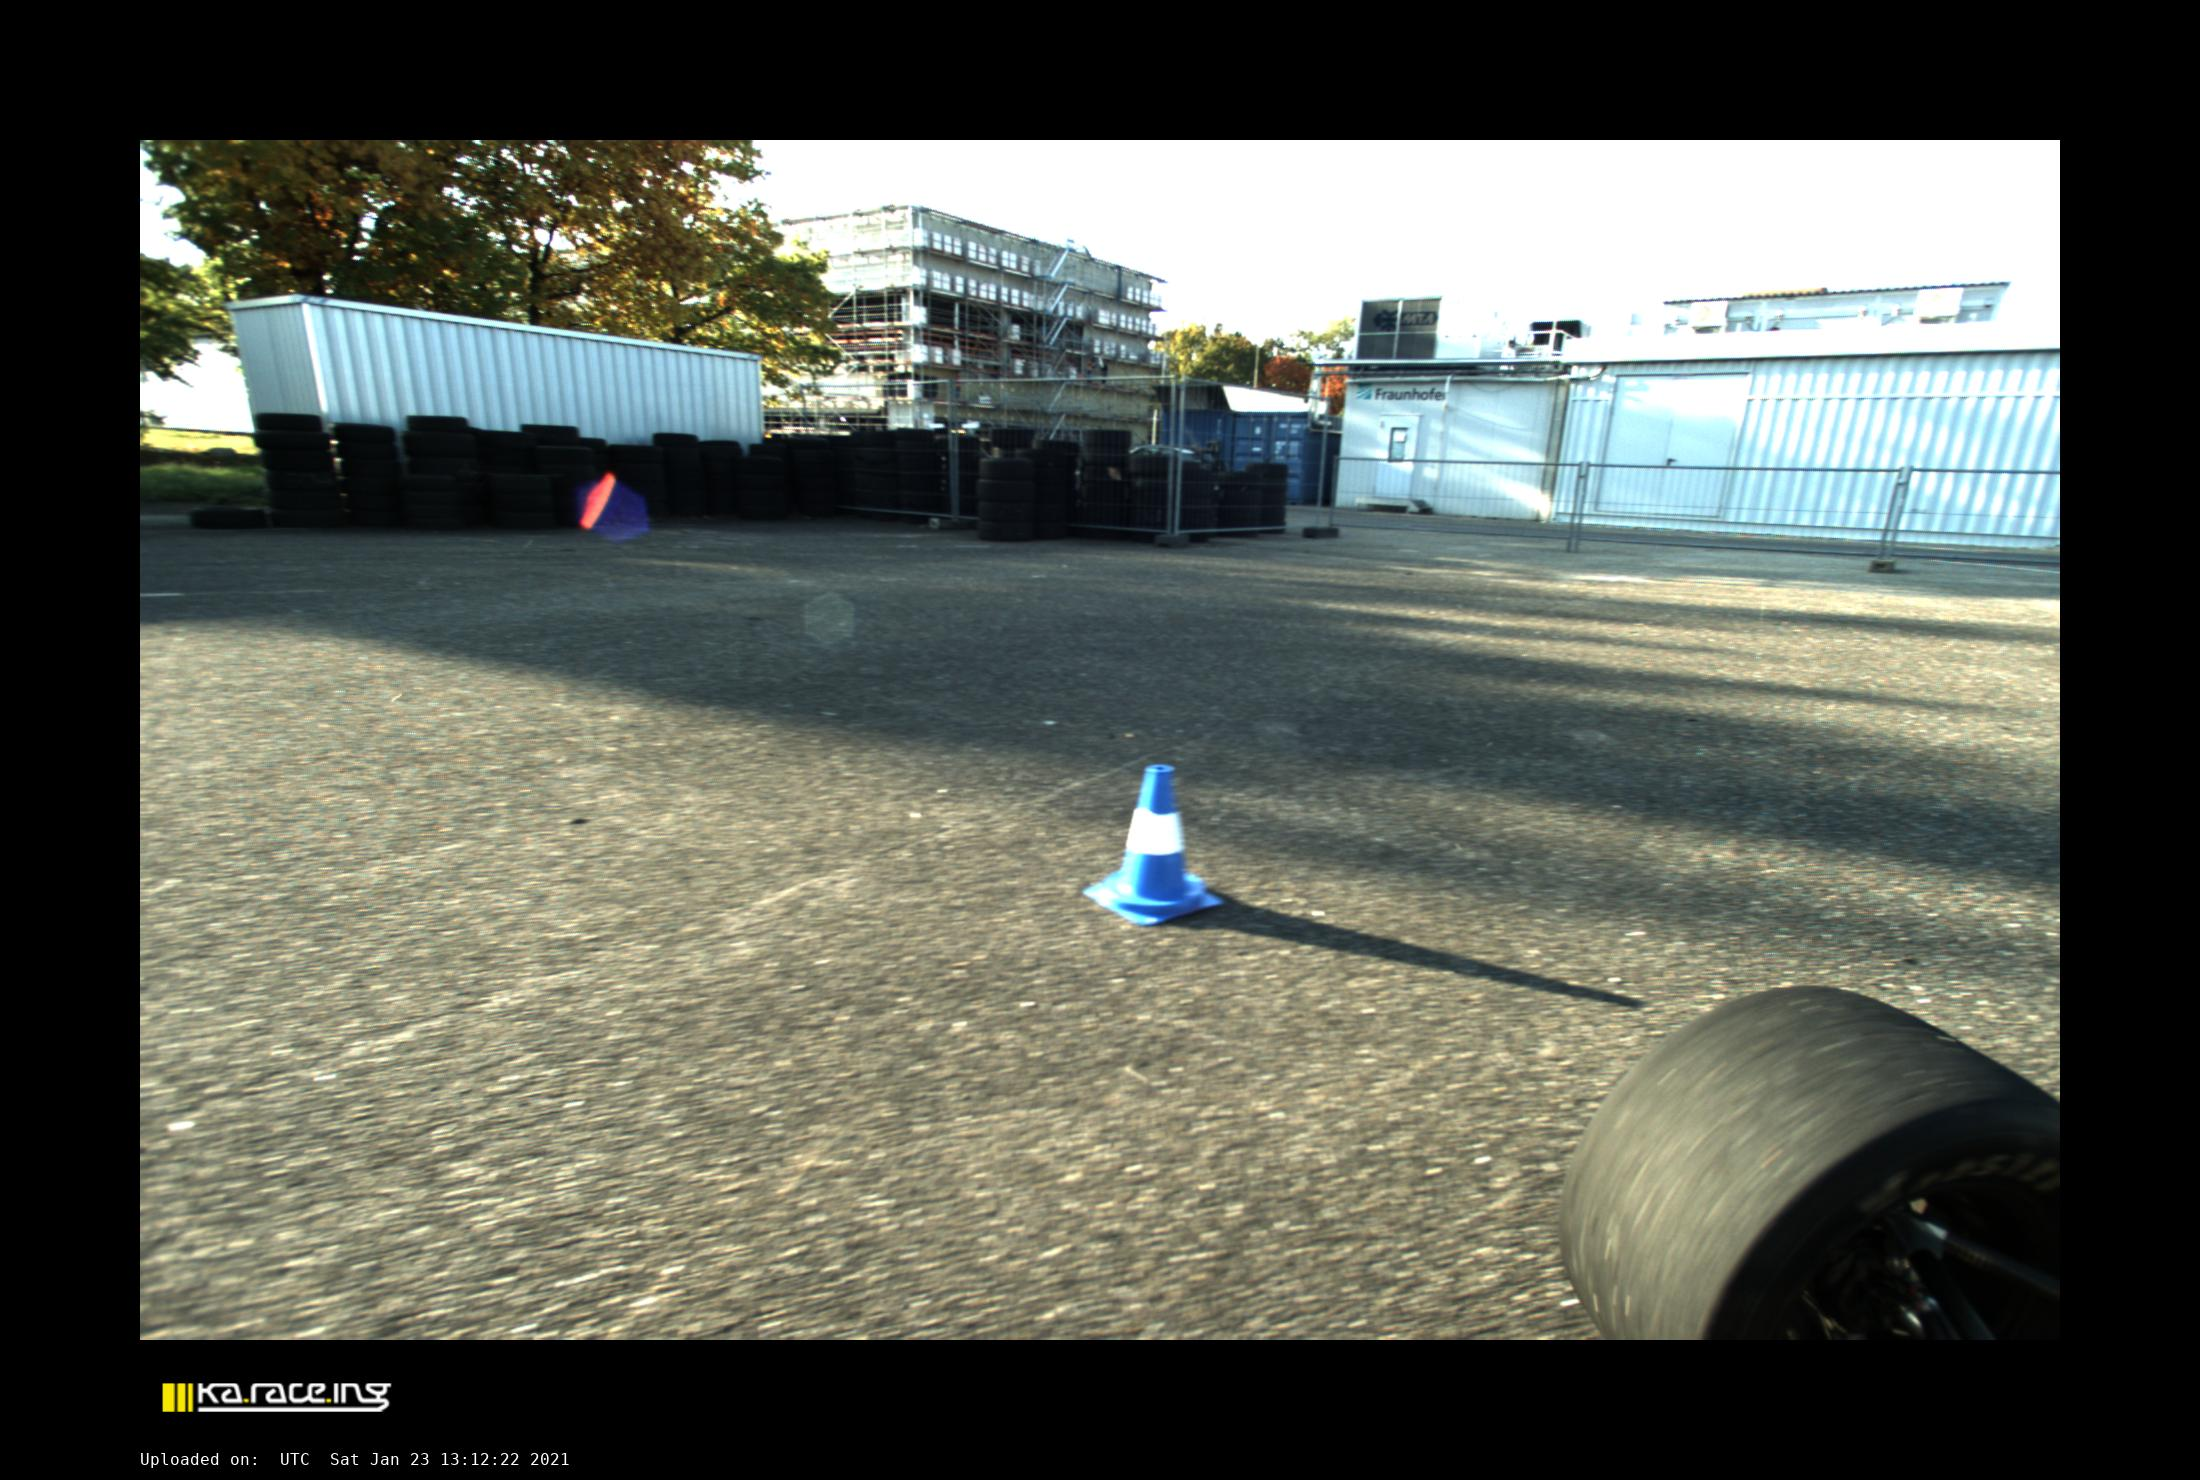blue_cone: (1082, 766, 1222, 923)
